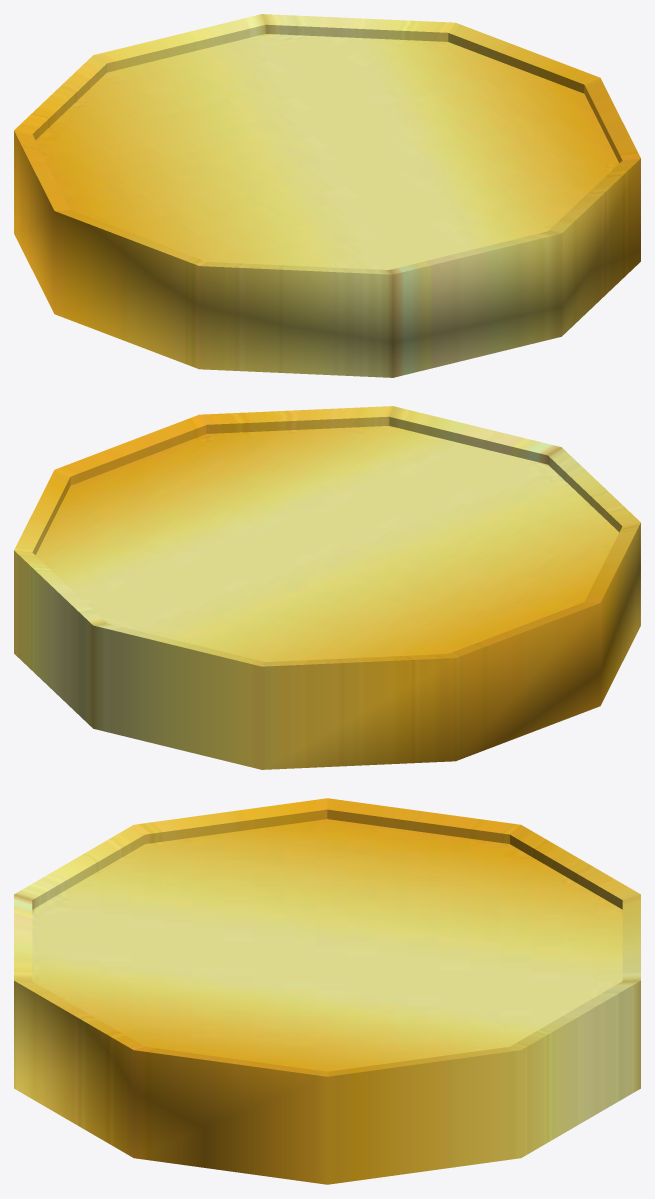
Rendered from coin.fbx.
3 renders of one model, top to bottom at view 1: azimuth 30°, elevation 25°; view 2: azimuth 150°, elevation 25°; view 3: azimuth 270°, elevation 25°, orthographic. The views are drawn at different scales.
Visible parts, largest first — view 1: pCylinder1; view 2: pCylinder1; view 3: pCylinder1.
Part boxes in pixels (x1,y1,x2,y2): pCylinder1: (14, 14, 640, 377); pCylinder1: (14, 406, 640, 769); pCylinder1: (14, 798, 640, 1184).
Bounding box in the file's own units: 4.76 × 0.9111 × 4.53.
Materials: 1 (1 with a texture image).
